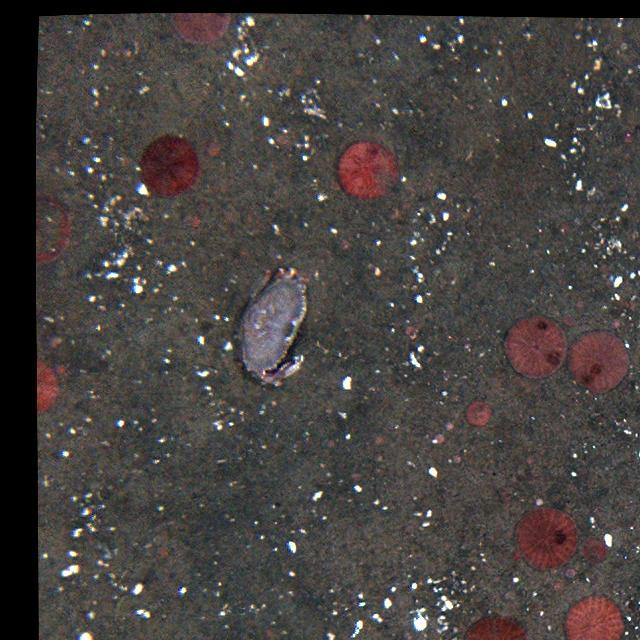crab: (238, 265, 311, 390)
